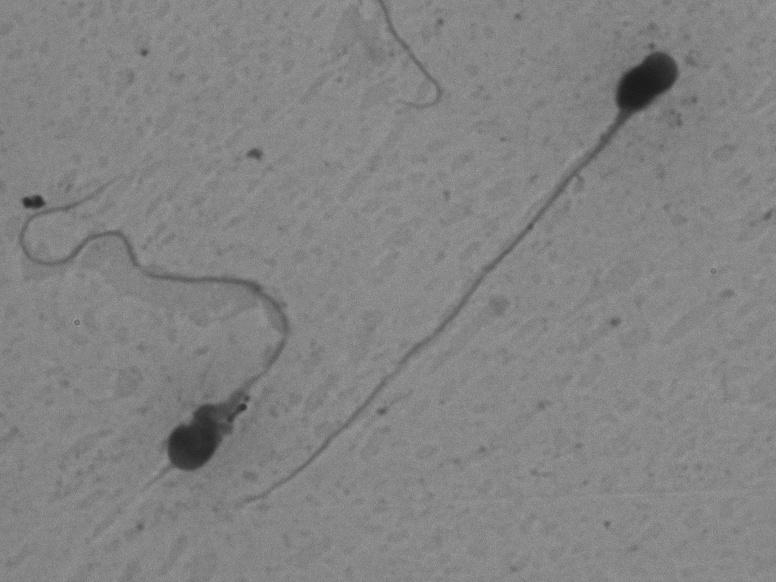Abnormal: (203, 33, 703, 527), (12, 144, 306, 484)
